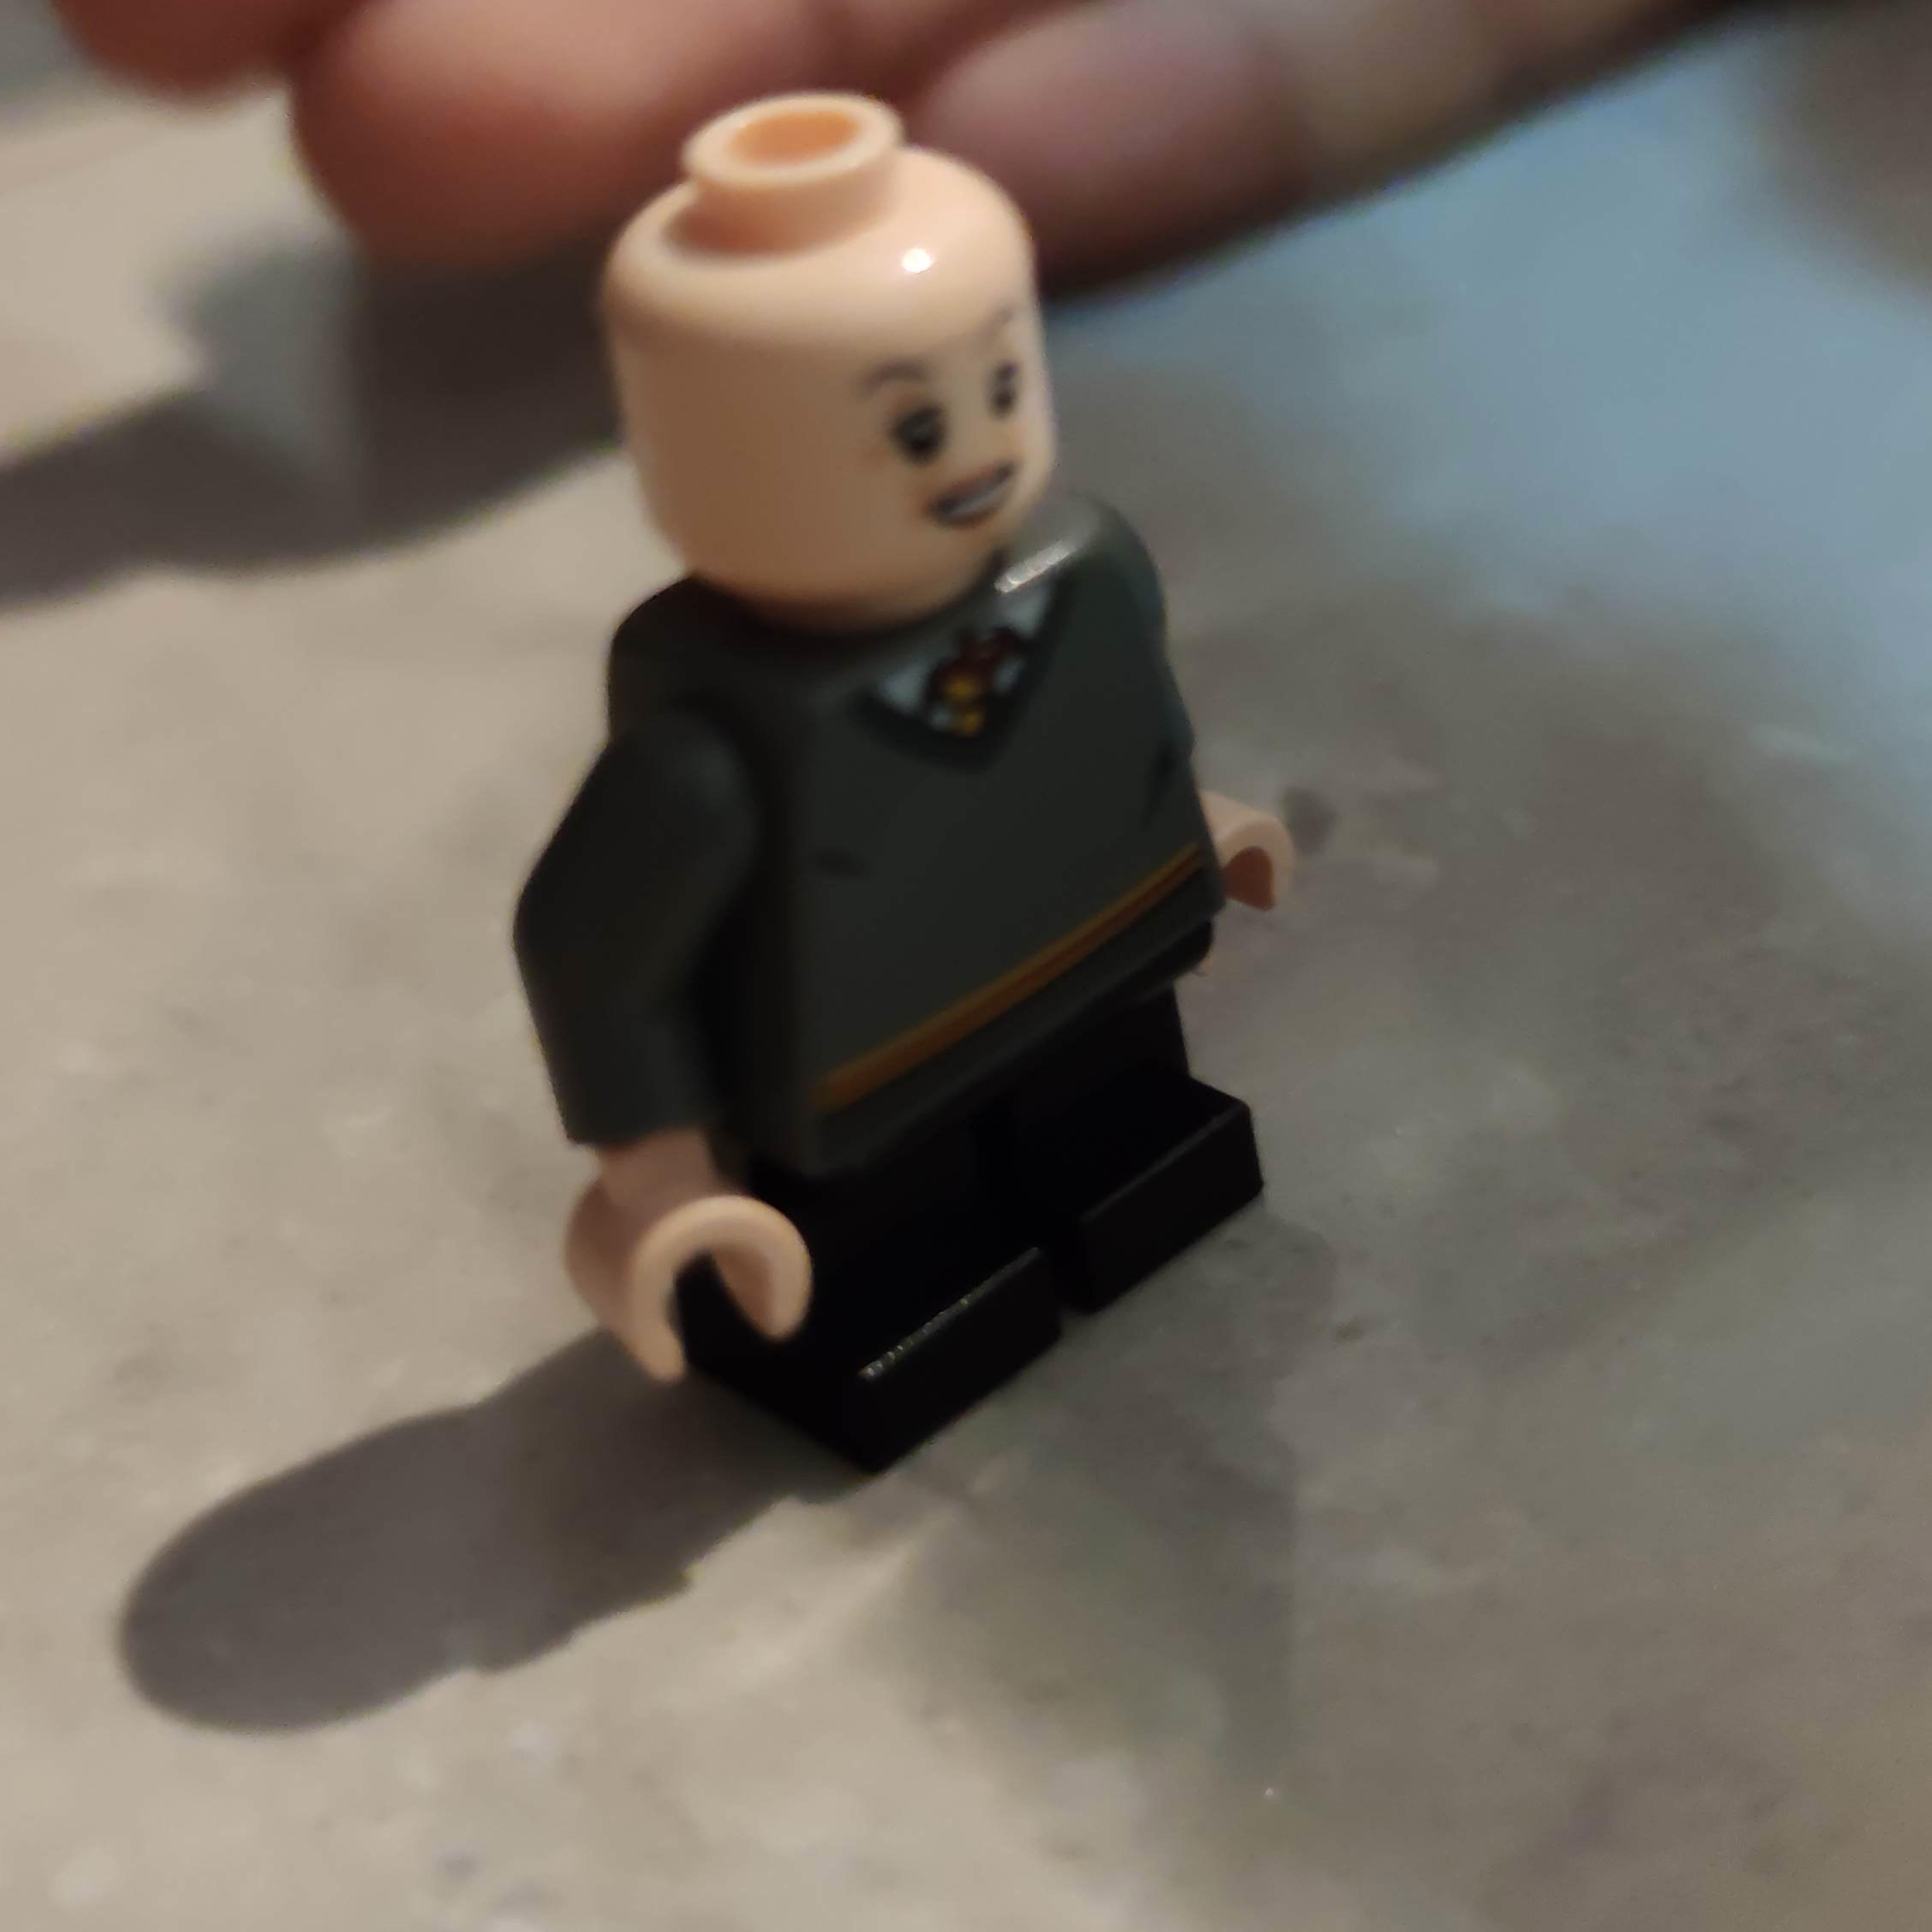lego: (510, 88, 1293, 1481)
